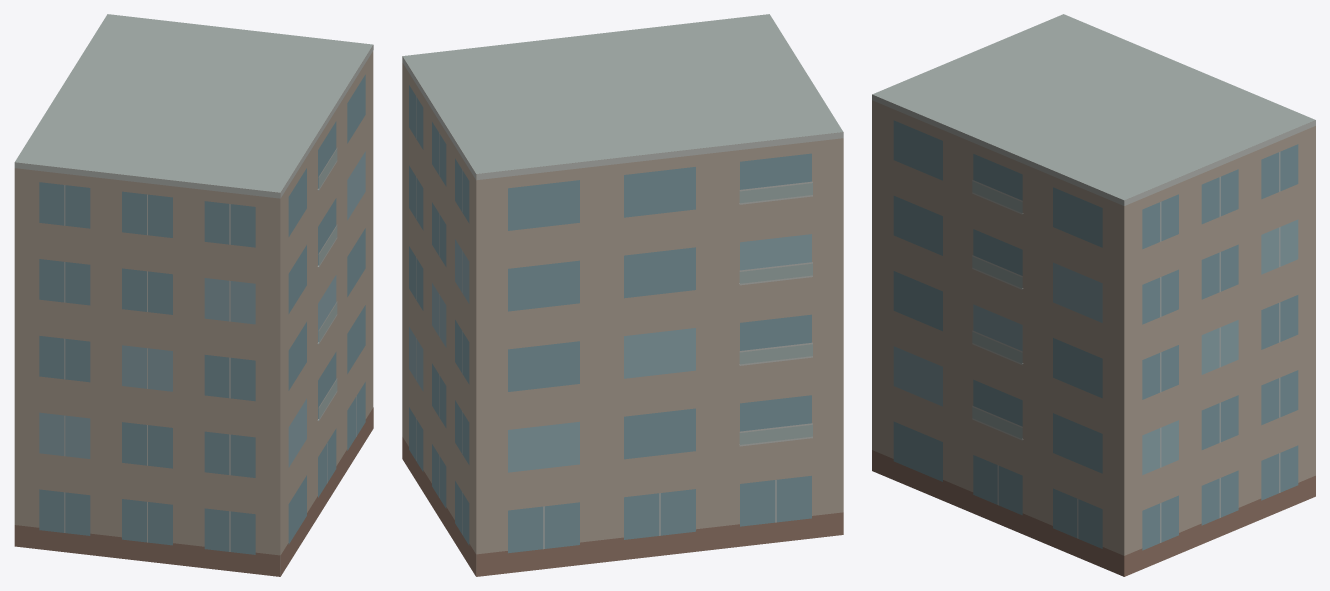
Rendered from survey-upis-32531277.glb.
3 views of the same model, side by side, from view 1: azimuth 30°, elevation 25°; view 2: azimuth 150°, elevation 25°; view 3: azimuth 270°, elevation 25° (orthographic). The views are drawn at different scales.
Visible parts, largest first — view 1: survey-upis-32531277.tmp; view 2: survey-upis-32531277.tmp; view 3: survey-upis-32531277.tmp.
Boxes of the visible parts, box(x1,y1,x2,y2) form: survey-upis-32531277.tmp: box(14, 14, 373, 576); survey-upis-32531277.tmp: box(402, 14, 843, 576); survey-upis-32531277.tmp: box(872, 14, 1315, 576).
Bounding box in the file's own units: 16.94 × 15.95 × 17.04.
